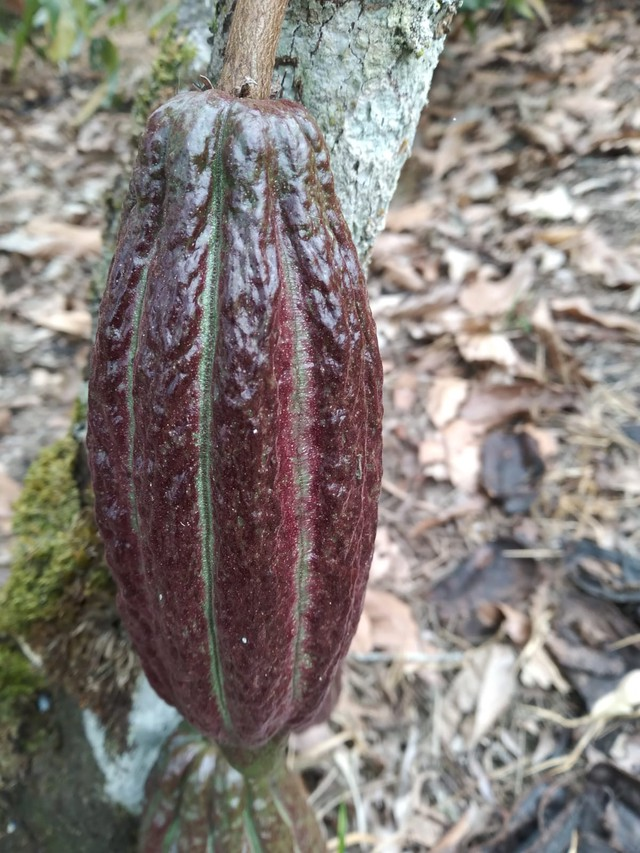Health: (82, 86, 402, 761)
